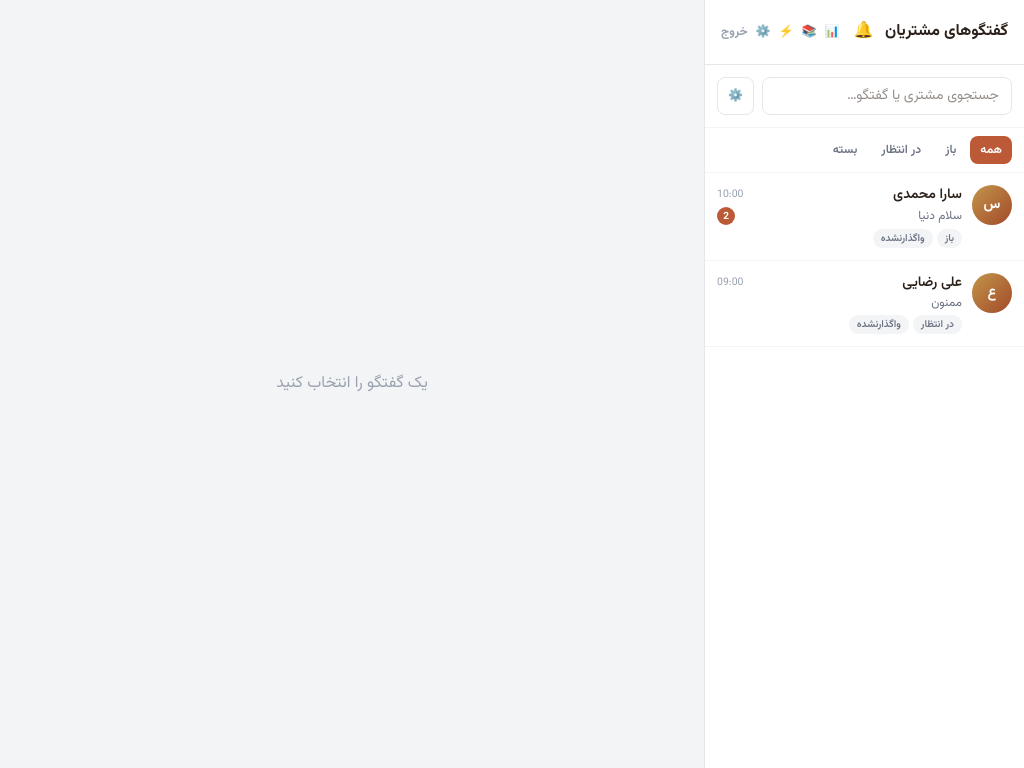
Test case: Operator dashboard — customer conversations page › team operations: queues, priority, transfer, escalation, notes, quick replies, notifications › shows the assignment history panel for the selected conversation
Click the text "سارا محمدی".
click(928, 195)  # box x1=893 y1=185 x2=962 y2=205
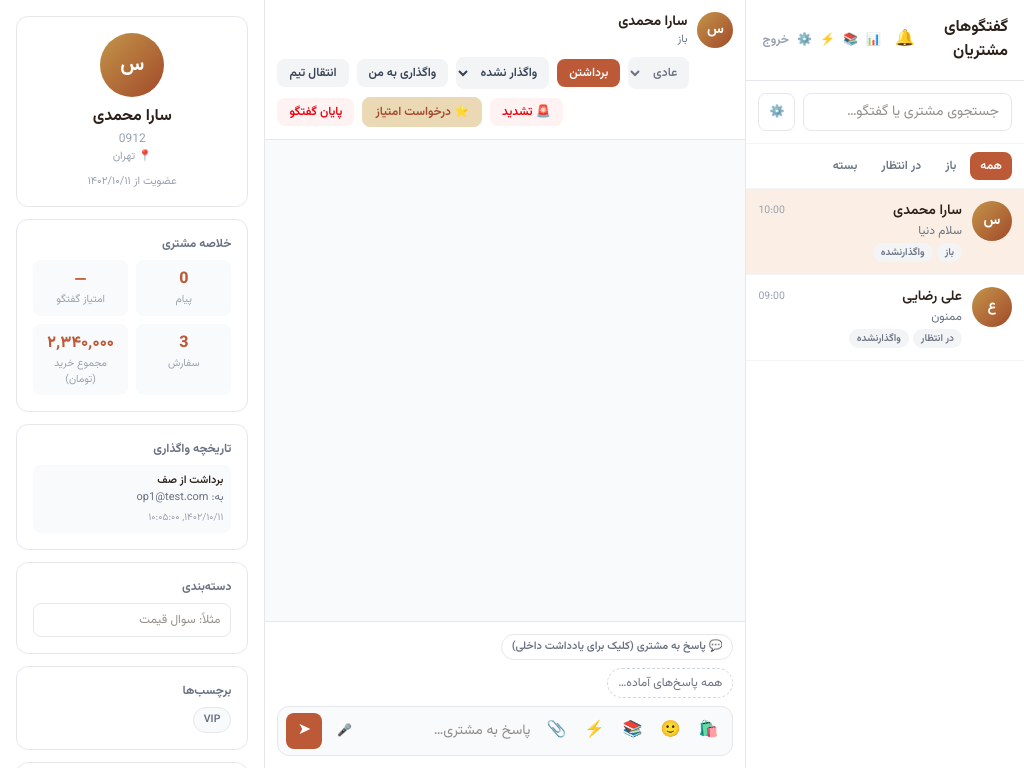
Result: the text "برداشت از صف" is shown at x1=157 y1=472 x2=223 y2=489
Result: the text "به: op1@test.com" is shown at x1=137 y1=489 x2=223 y2=506
